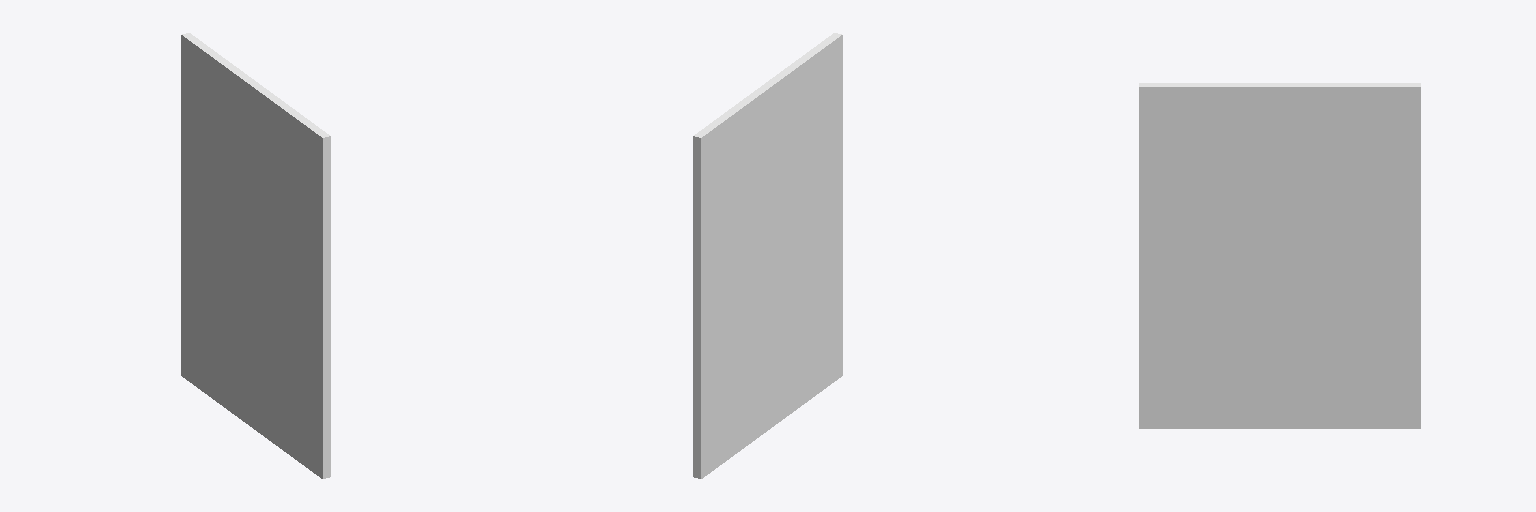
Rendered from paper_new.obj.
3 renders of one model, left to right at view 1: azimuth 30°, elevation 25°; view 2: azimuth 150°, elevation 25°; view 3: azimuth 270°, elevation 25°, orthographic.
Parts seen in each view (by area): view 1: object 1; view 2: object 1; view 3: object 1.
Part boxes in pixels (left/top/right/bottom): object 1: left=181, top=33, right=330, bottom=478; object 1: left=693, top=33, right=842, bottom=478; object 1: left=1139, top=83, right=1420, bottom=428.
Size of the model in its own units: 0.1 by 4 by 3.